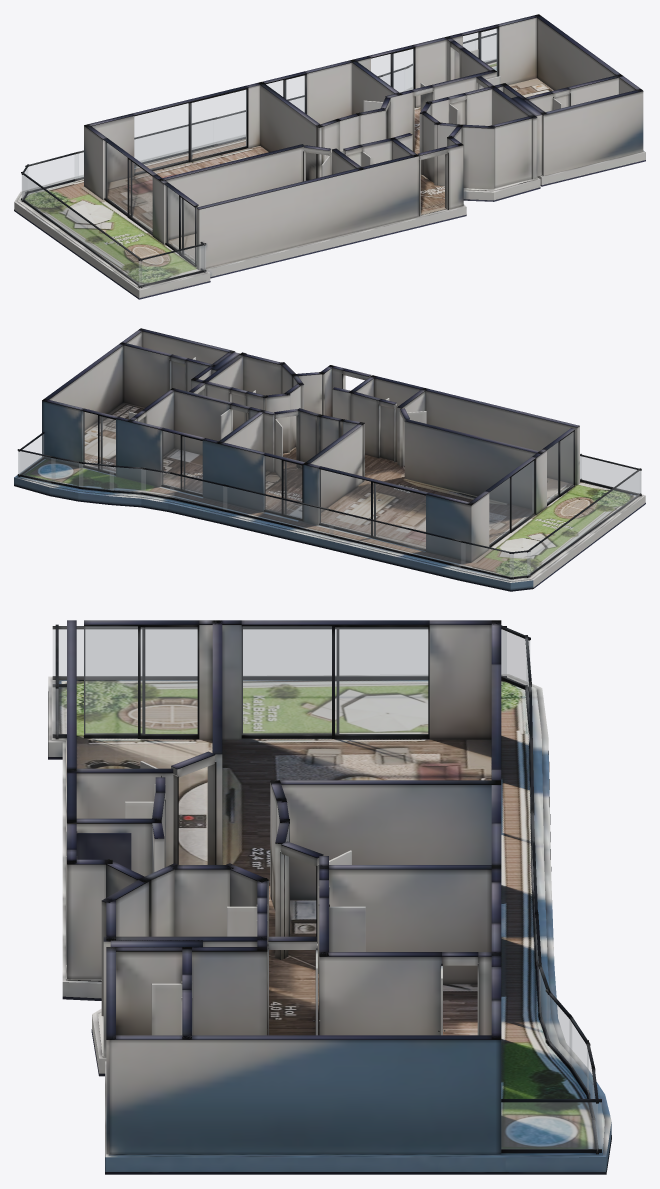
The picture shows the model from 3 angles, top to bottom: view 1: azimuth 30°, elevation 25°; view 2: azimuth 150°, elevation 25°; view 3: azimuth 270°, elevation 25°; orthographic projection. The views are drawn at different scales.
Visible parts, largest first — view 1: plan, glass0_m, railg3_m, glass1_m, railg11_m, railg0_m, glass2_m, glass4_m, railg12_m, glass5_m, railg10_m, glass3_m; view 2: plan, glass0_m, railg11_m, railg3_m, railg10_m, glass1_m, glass4_m, glass3_m, glass5_m, railg0_m, glass2_m, railg9_m (+8 smaller); view 3: plan, glass1_m, railg3_m, glass2_m, railg1_m, railg13_m, railg7_m, railg6_m.
Part boxes in pixels (bbox=[...]): plan: bbox=[14, 14, 645, 299]; glass0_m: bbox=[134, 90, 246, 172]; railg3_m: bbox=[22, 175, 141, 285]; glass1_m: bbox=[105, 141, 152, 231]; railg11_m: bbox=[75, 120, 212, 178]; railg0_m: bbox=[139, 245, 205, 285]; glass2_m: bbox=[166, 186, 194, 262]; glass4_m: bbox=[371, 49, 413, 92]; railg12_m: bbox=[26, 154, 78, 190]; glass5_m: bbox=[463, 29, 497, 75]; railg10_m: bbox=[217, 97, 303, 143]; glass3_m: bbox=[266, 75, 304, 112]; plan: bbox=[14, 328, 645, 591]; glass0_m: bbox=[319, 469, 425, 548]; railg11_m: bbox=[329, 511, 465, 566]; railg3_m: bbox=[527, 471, 640, 575]; railg10_m: bbox=[223, 486, 333, 534]; glass1_m: bbox=[489, 461, 533, 545]; glass4_m: bbox=[162, 431, 202, 493]; glass3_m: bbox=[264, 456, 301, 518]; glass5_m: bbox=[83, 412, 115, 472]; railg0_m: bbox=[580, 456, 641, 493]; glass2_m: bbox=[547, 432, 573, 503]; railg9_m: bbox=[170, 474, 226, 509]; plan: bbox=[48, 620, 611, 1174]; glass1_m: bbox=[242, 626, 427, 734]; railg3_m: bbox=[53, 629, 506, 676]; glass2_m: bbox=[84, 626, 197, 734]; railg1_m: bbox=[501, 1102, 601, 1149]; railg13_m: bbox=[501, 629, 529, 686]; railg7_m: bbox=[547, 993, 571, 1066]; railg6_m: bbox=[569, 1020, 588, 1092].
Size of the model in its own units: 20.36 by 2.62 by 10.04.
Materials: 2 (1 with a texture image).
